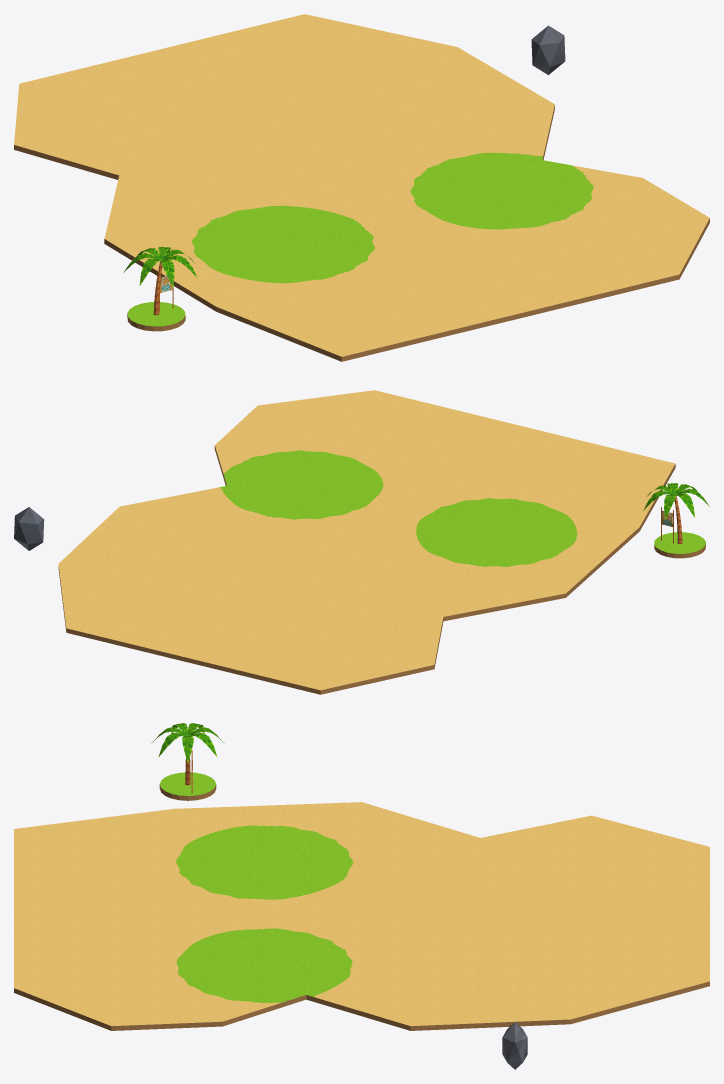
File: surface-16-B1Lwz-05.glb
The picture shows the model from 3 angles, top to bottom: view 1: azimuth 30°, elevation 25°; view 2: azimuth 150°, elevation 25°; view 3: azimuth 270°, elevation 25°; orthographic projection. The views are drawn at different scales.
Parts seen in each view (by area): view 1: HI_Surface_16, FLC_Regions_16, HI_SceneryIslet_0.005, HI_Palm.004, HI_BasaltOutcrop.005; view 2: HI_Surface_16, FLC_Regions_16, HI_Palm.004, HI_SceneryIslet_0.005, HI_BasaltOutcrop.005; view 3: HI_Surface_16, FLC_Regions_16, HI_SceneryIslet_0.005, HI_Palm.004, HI_BasaltOutcrop.005.
Part boxes in pixels (x1=…): HI_Surface_16: x1=14, y1=14, x2=709, y2=361; FLC_Regions_16: x1=191, y1=152, x2=593, y2=283; HI_SceneryIslet_0.005: x1=127, y1=302, x2=185, y2=331; HI_Palm.004: x1=123, y1=247, x2=197, y2=315; HI_BasaltOutcrop.005: x1=531, y1=25, x2=565, y2=74; HI_Surface_16: x1=58, y1=390, x2=675, y2=694; FLC_Regions_16: x1=219, y1=450, x2=577, y2=566; HI_Palm.004: x1=643, y1=483, x2=709, y2=543; HI_SceneryIslet_0.005: x1=654, y1=532, x2=705, y2=558; HI_BasaltOutcrop.005: x1=14, y1=507, x2=44, y2=550; HI_Surface_16: x1=14, y1=802, x2=709, y2=1030; FLC_Regions_16: x1=176, y1=825, x2=353, y2=1002; HI_SceneryIslet_0.005: x1=159, y1=772, x2=216, y2=800; HI_Palm.004: x1=151, y1=723, x2=224, y2=785; HI_BasaltOutcrop.005: x1=502, y1=1022, x2=527, y2=1069.
Size of the model in its own units: 40.53 by 5.15 by 42.
Materials: 7 (6 with a texture image).
